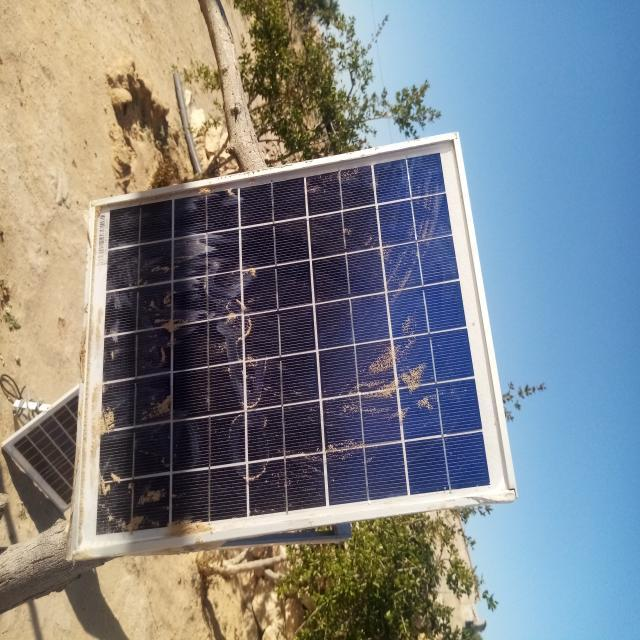faulty: (74, 133, 517, 562)
